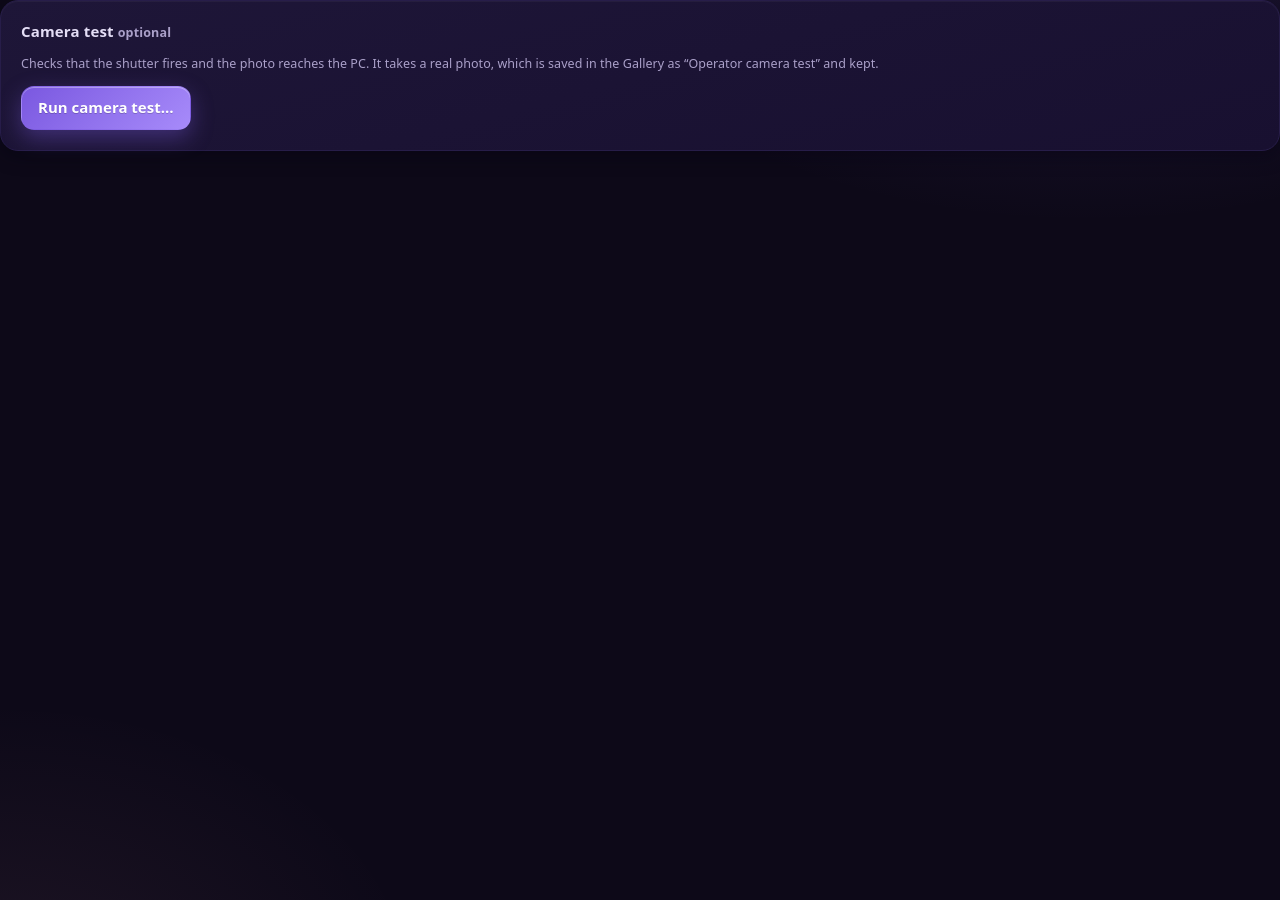
Scenario: camera test › a failed test explains what to do, offers a retry and still resets safely
The image size is (1280, 900).
Click the button "Run camera test…". click: (106, 108)
box: [21,86,190,130]
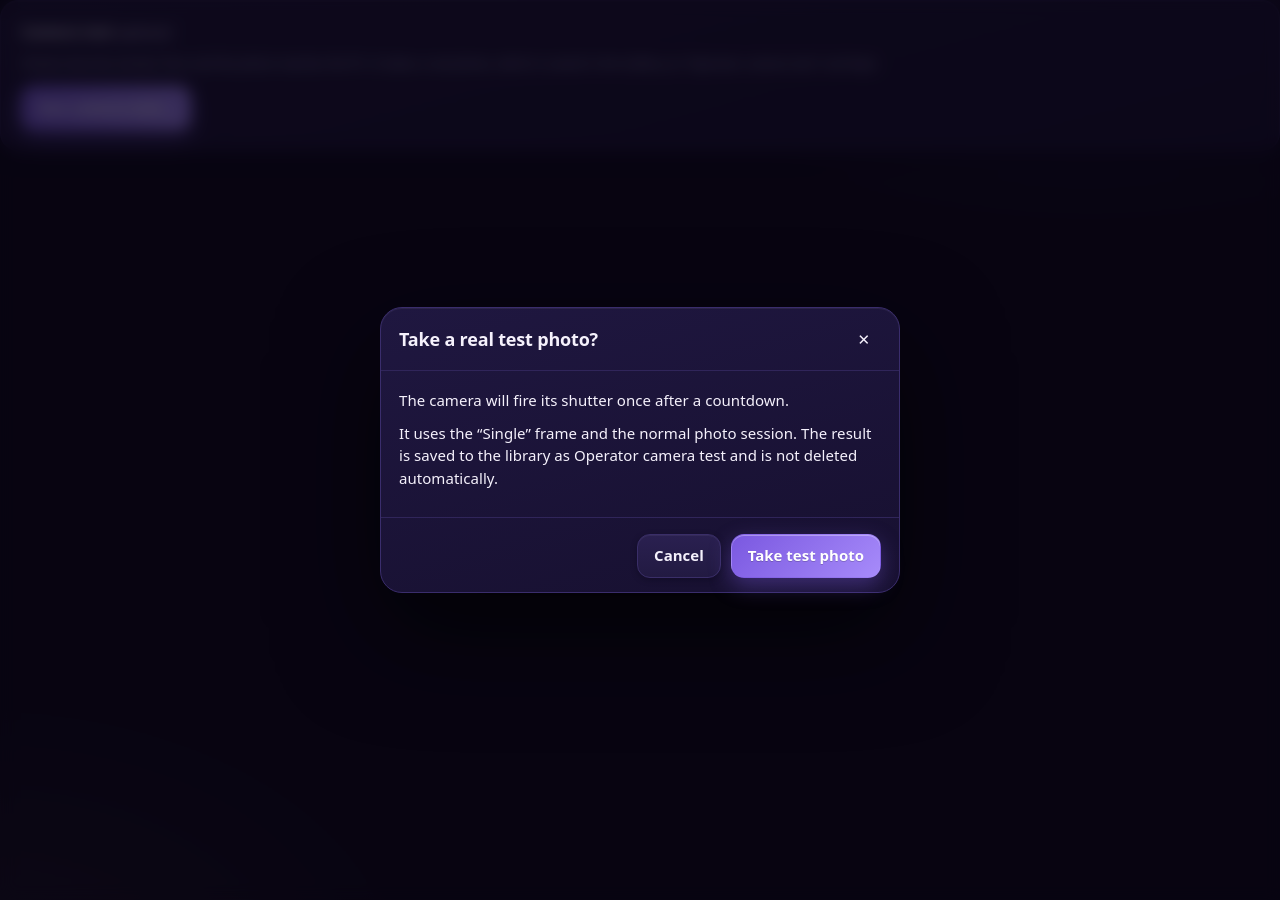
Click the button "Take test photo". click: (806, 556)
box: [731,534,881,578]
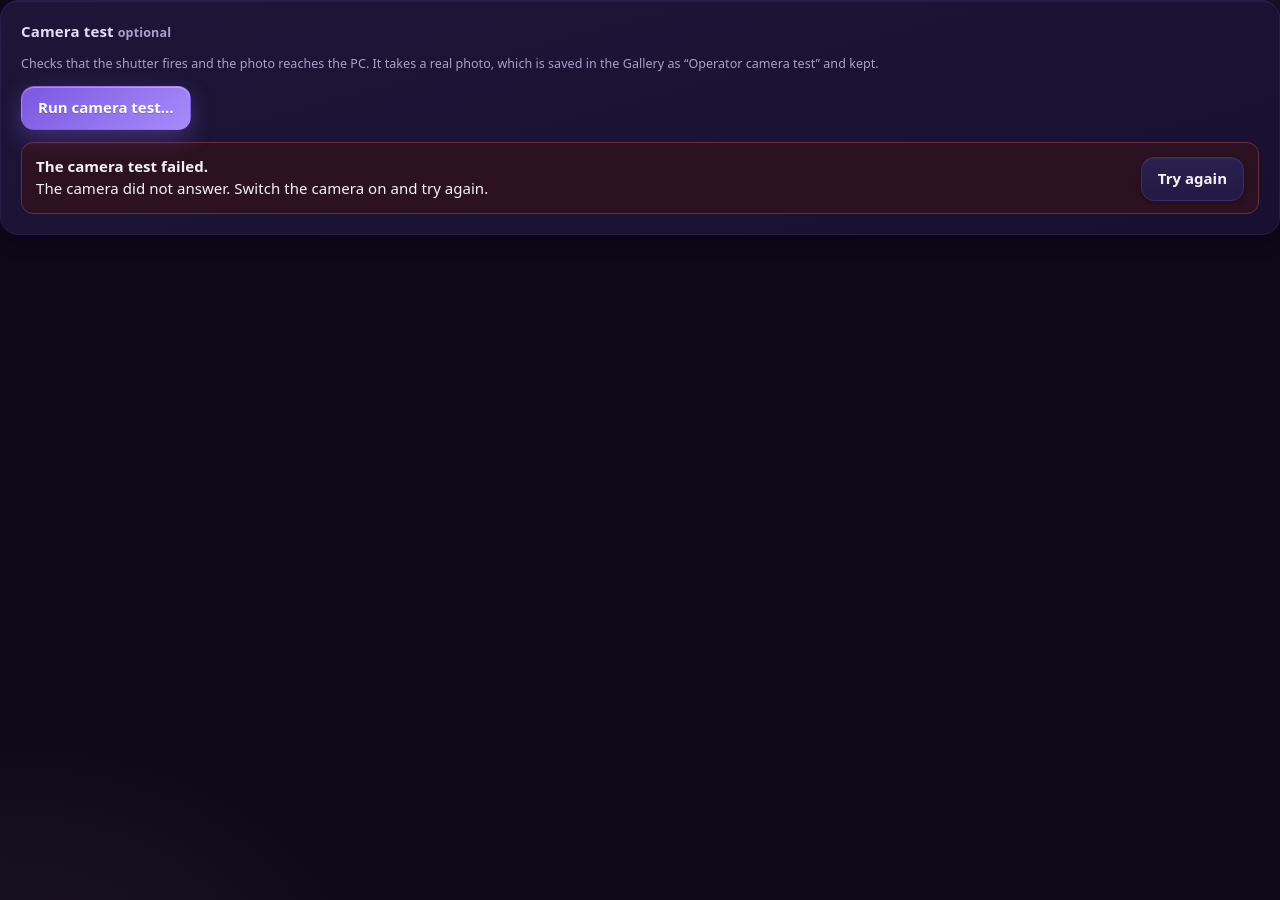
Now the message shows "The camera test failed", box [36,156,208,176]
Now the message shows "did not answer", box [36,178,488,198]
Now the message shows "Switch the camera on", box [36,178,488,198]
